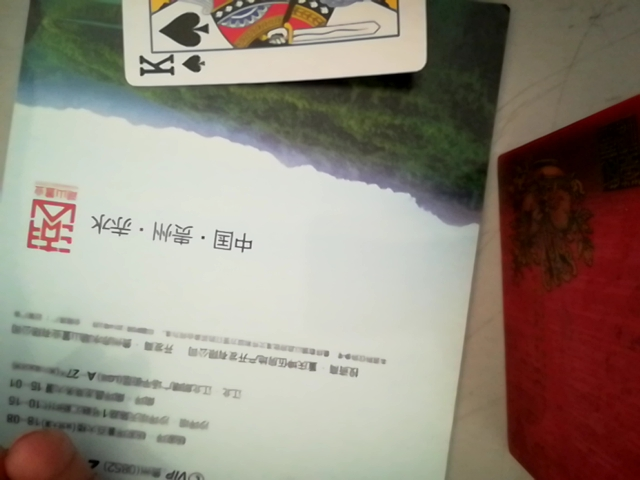ht k: (107, 0, 434, 92)
